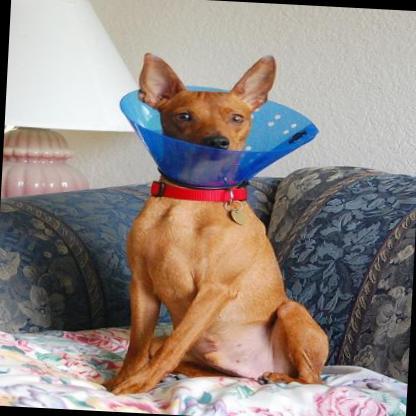miniature_pinscher: (98, 45, 350, 406)
